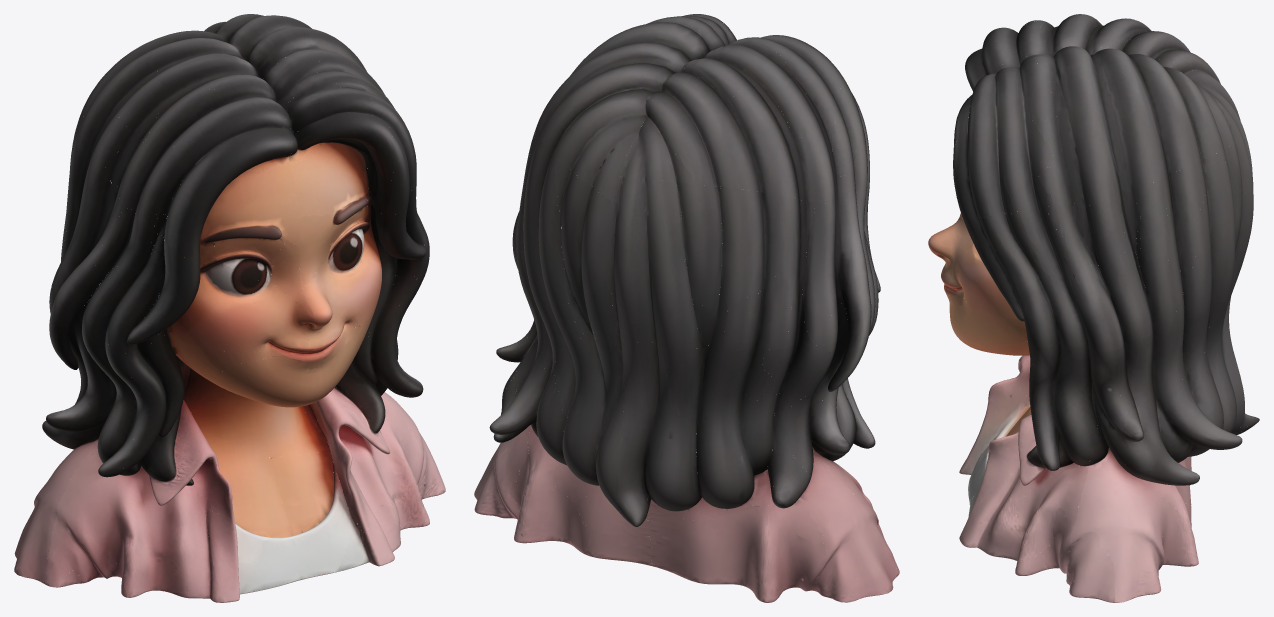
3 views of the same model, side by side, from view 1: azimuth 30°, elevation 25°; view 2: azimuth 150°, elevation 25°; view 3: azimuth 270°, elevation 25° (orthographic). The views are drawn at different scales.
Parts seen in each view (by area): view 1: tripo_node_aea3ba66-fdd9-4449-8d3a-587eacd56446; view 2: tripo_node_aea3ba66-fdd9-4449-8d3a-587eacd56446; view 3: tripo_node_aea3ba66-fdd9-4449-8d3a-587eacd56446.
Boxes of the visible parts, x1=… form: tripo_node_aea3ba66-fdd9-4449-8d3a-587eacd56446: x1=14, y1=14, x2=445, y2=602; tripo_node_aea3ba66-fdd9-4449-8d3a-587eacd56446: x1=474, y1=14, x2=899, y2=602; tripo_node_aea3ba66-fdd9-4449-8d3a-587eacd56446: x1=928, y1=14, x2=1259, y2=602.
Bounding box in the file's own units: 0.8633 × 0.9799 × 0.6226.
Materials: 1 (1 with a texture image).
